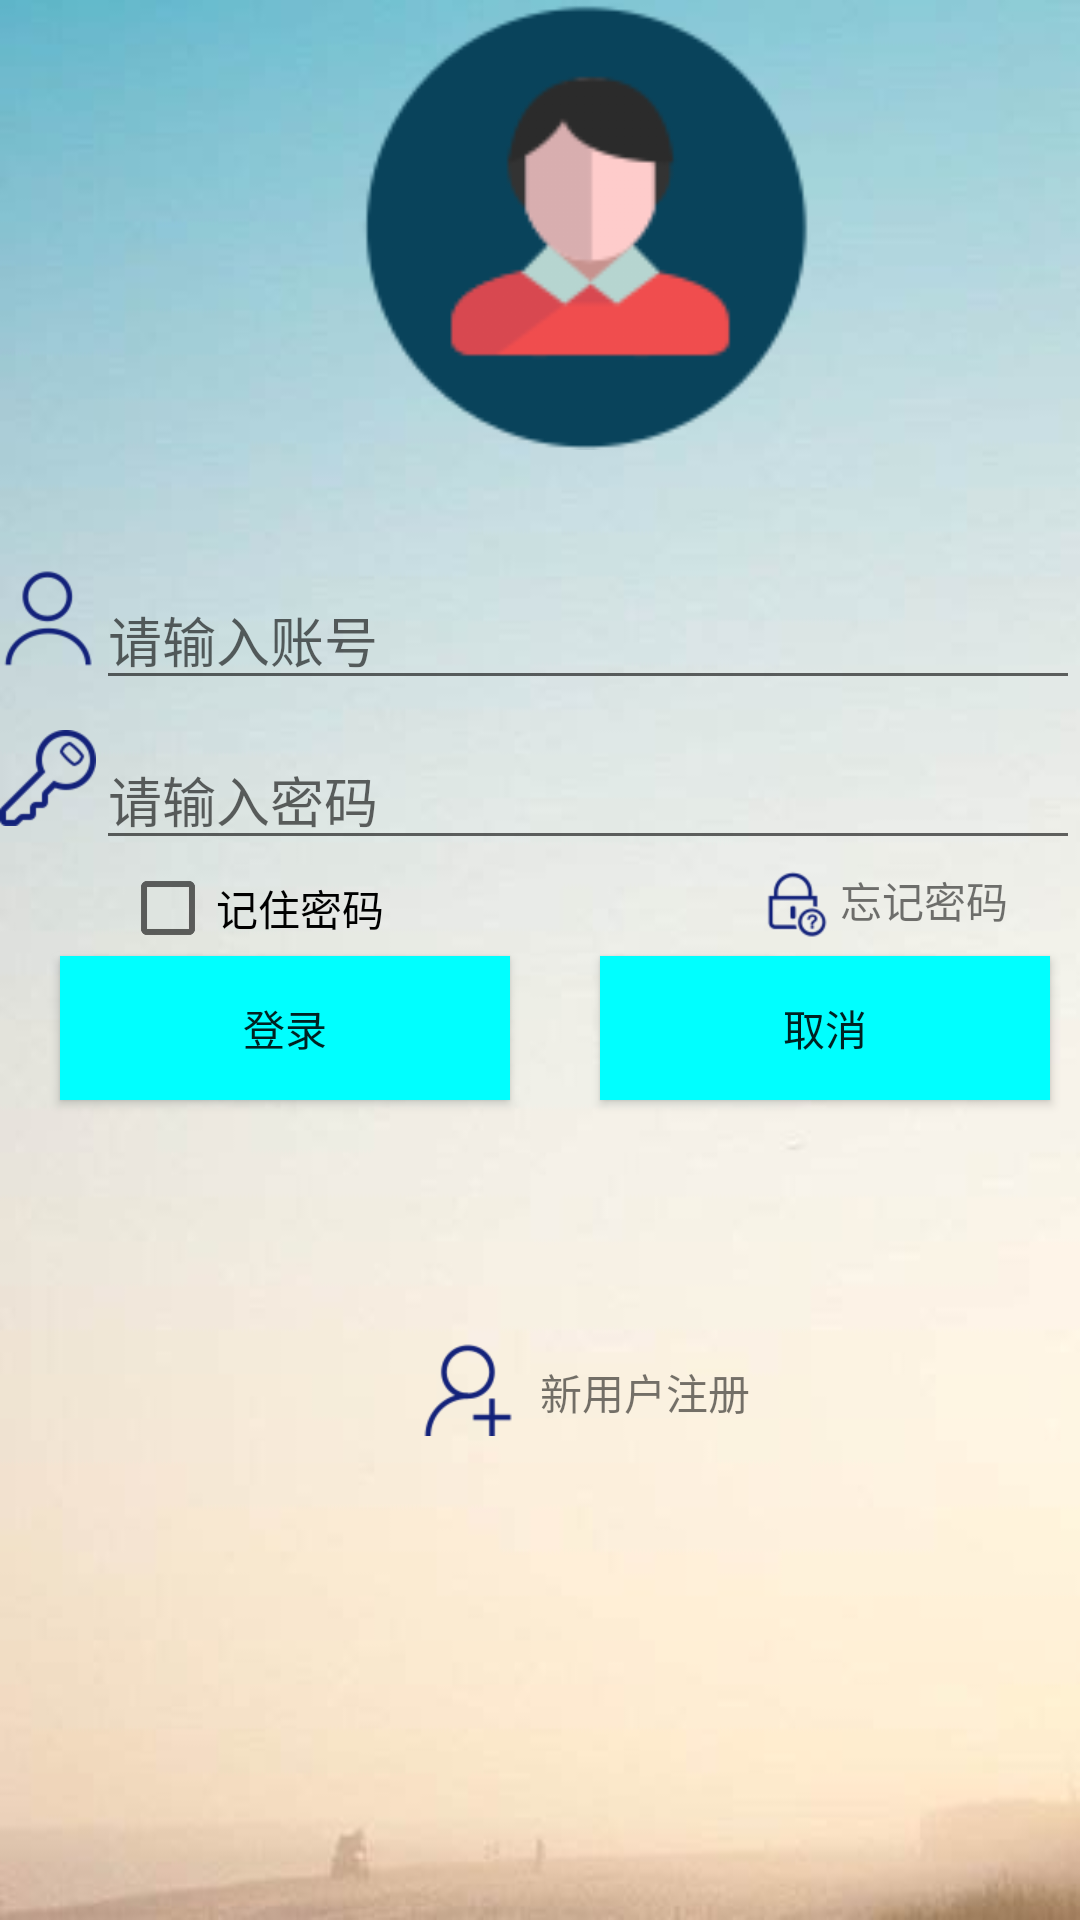

Screen size 1080x1920. Icon name, then its box in pixels as (x1, y1, x2, y2):
password: (0, 730, 96, 826)
user: (5, 571, 92, 666)
